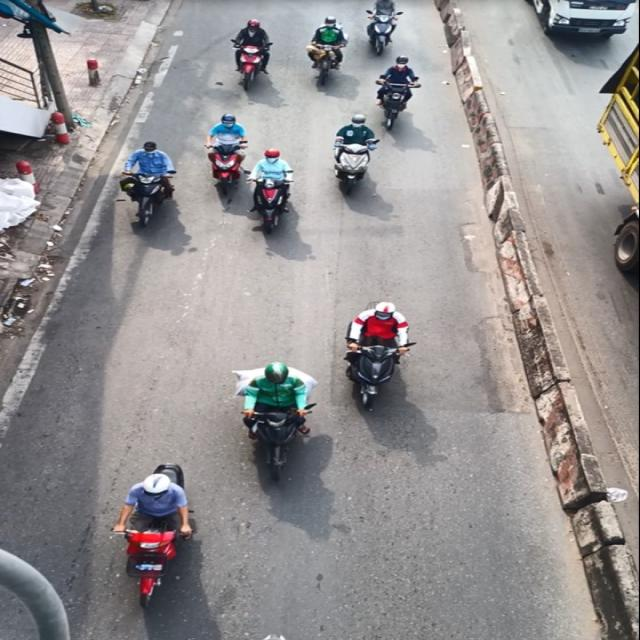motor: (88, 470, 180, 604), (238, 368, 321, 491), (332, 296, 409, 416), (120, 135, 180, 245), (252, 145, 310, 235), (378, 52, 434, 131), (334, 121, 383, 192)
